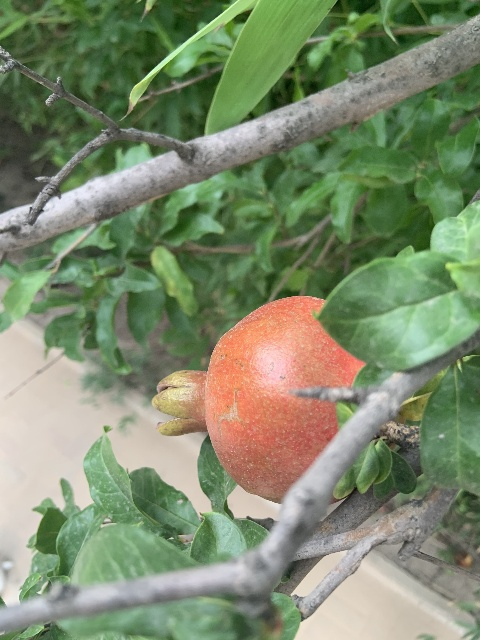ripe: (153, 294, 365, 502)
